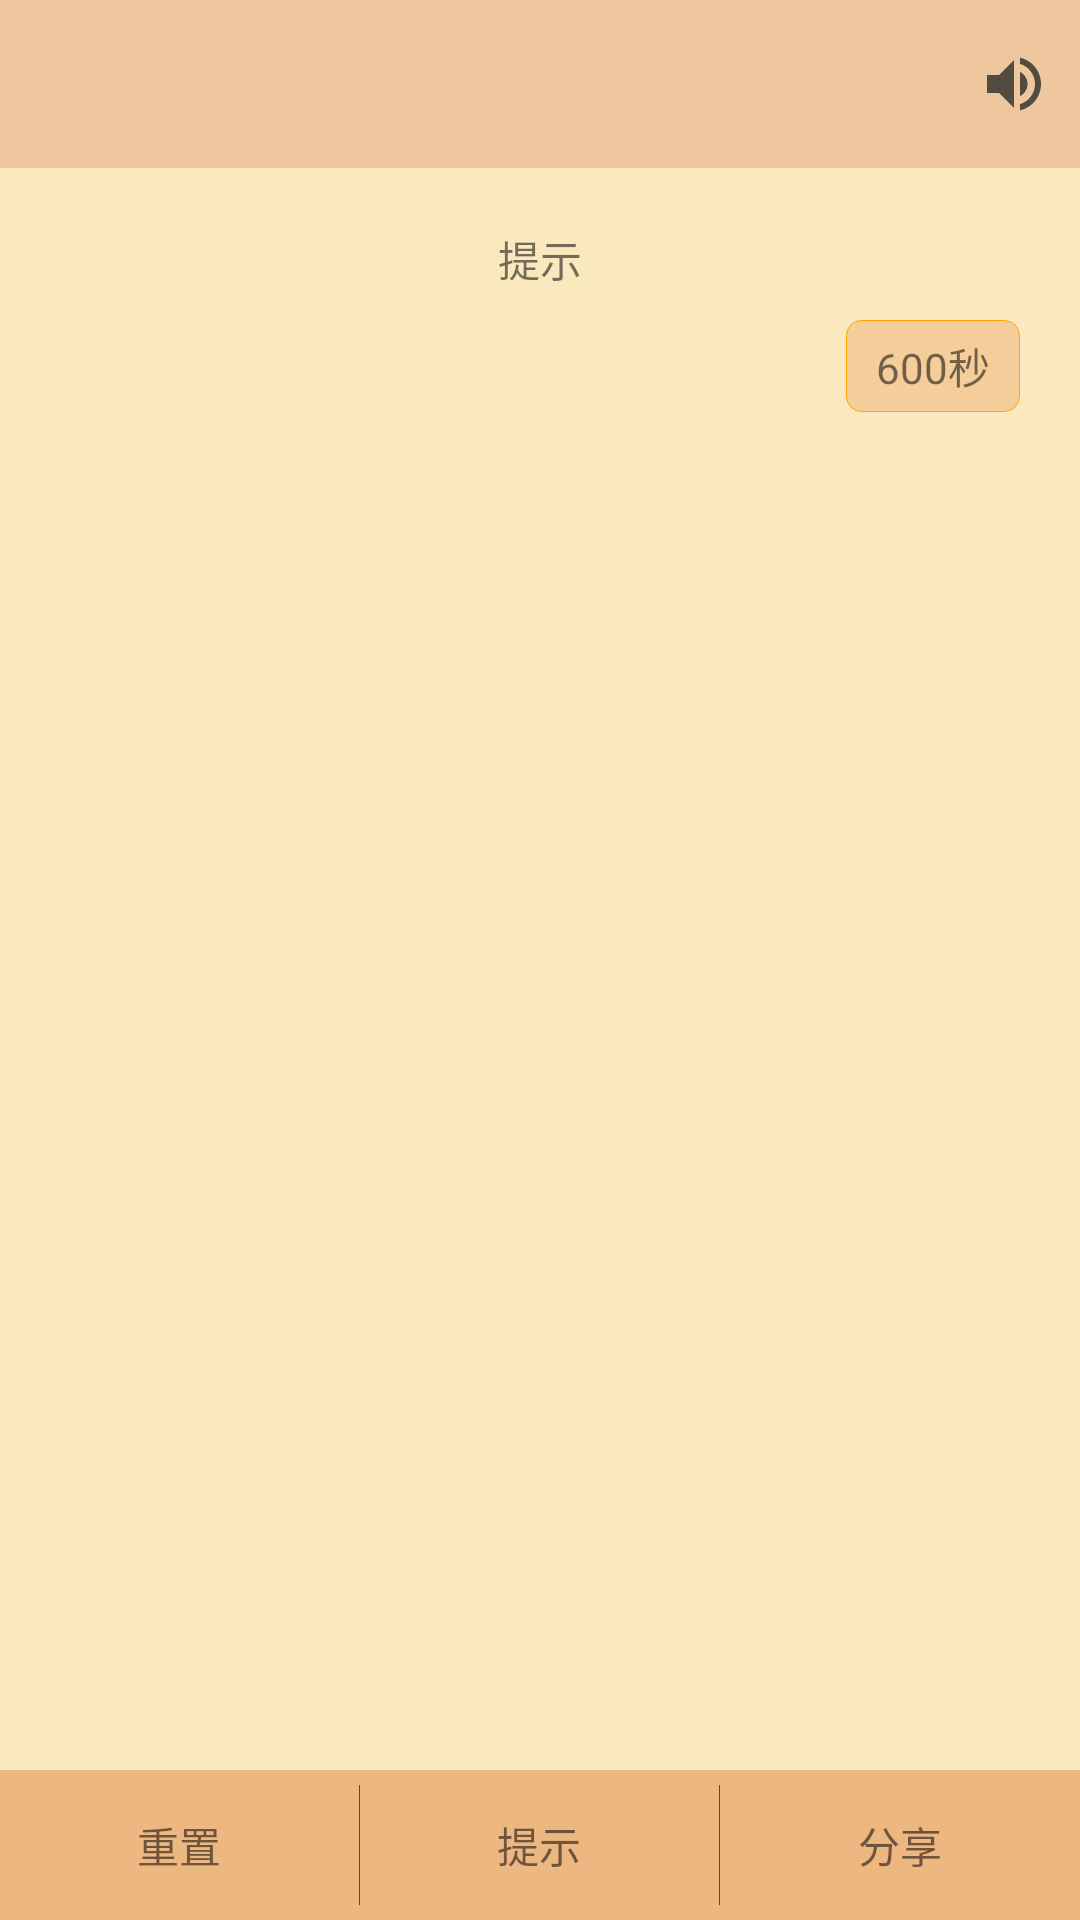

Named icons in this screenshot (1080 × 1920) and their centers, [x,y]:
volume up: [1014,84]
